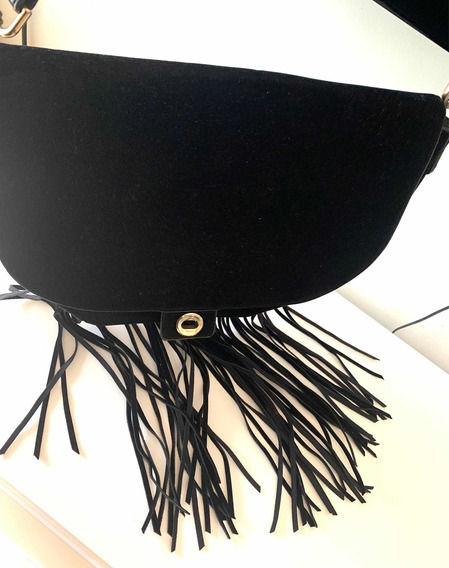cartera: (1, 38, 449, 340)
